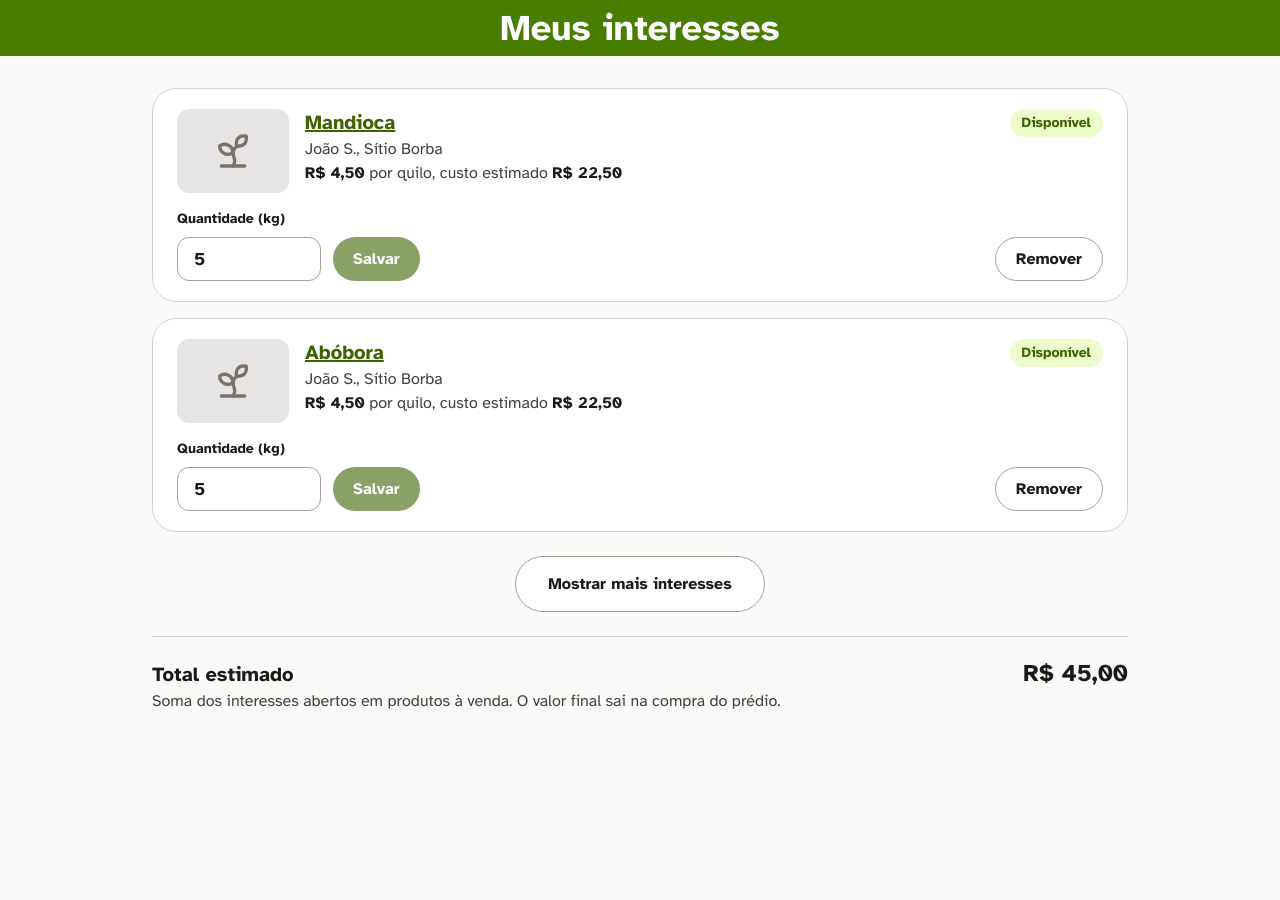
Test: MyInterests, catch-up page that fails › keeps counting the removed row for the next Mostrar mais
Click the 1st button "Remover" at coordinates (1049, 259), box x1=995 y1=237 x2=1103 y2=281
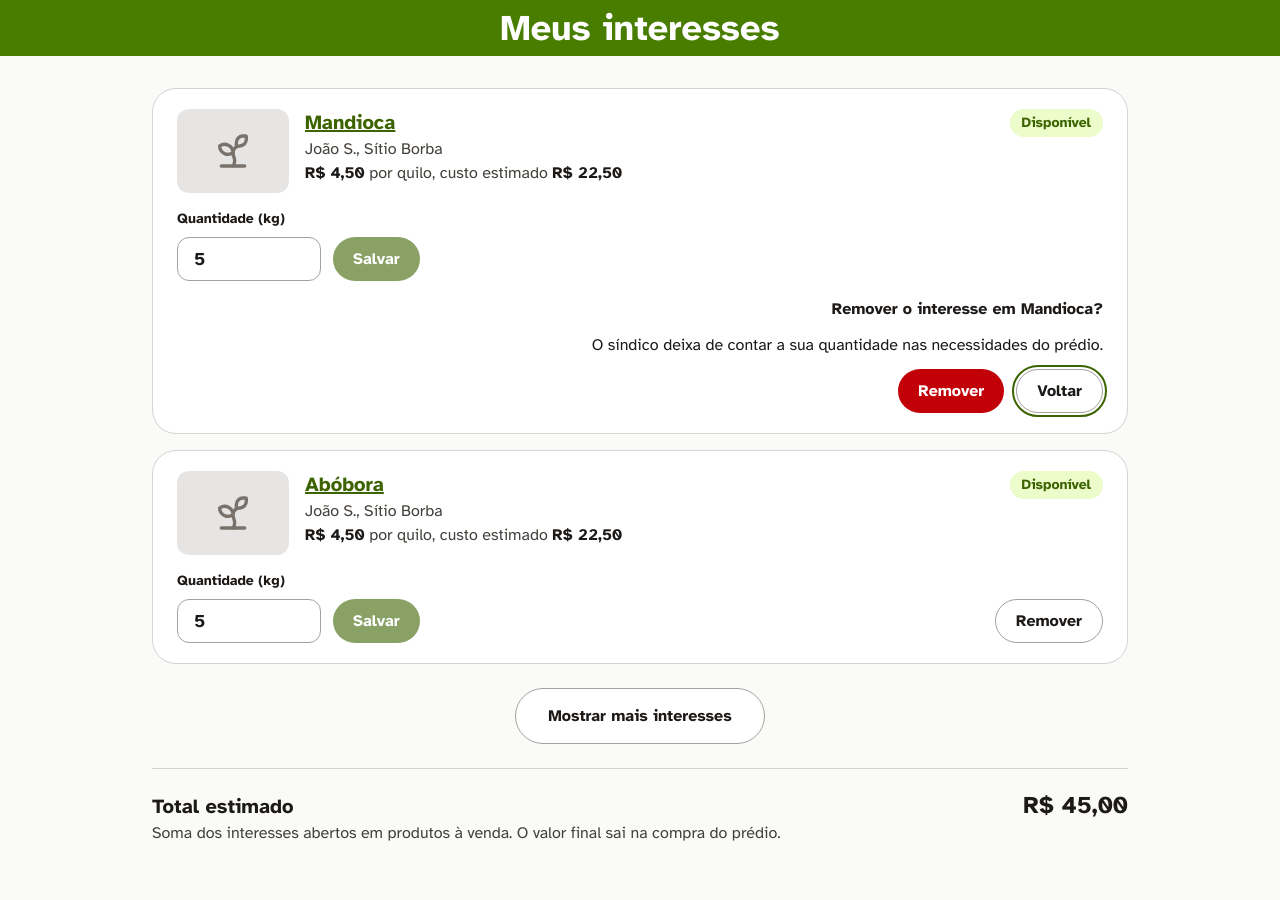
Click the button "Remover" below "Remover o interesse em" at coordinates (951, 391), box x1=898 y1=369 x2=1004 y2=413
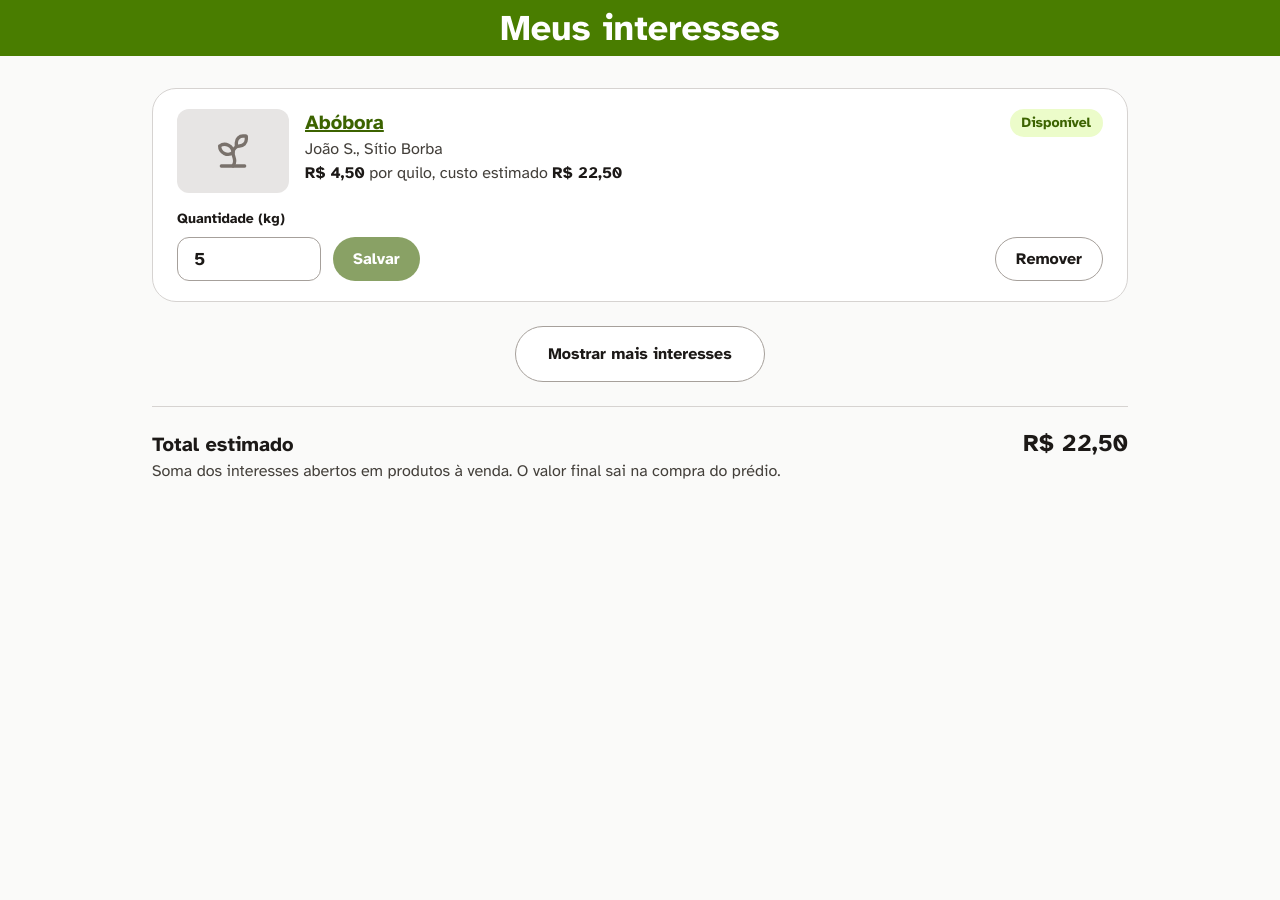
Expected: the link "Mandioca" is gone
Click the button "Mostrar mais interesses" at coordinates (640, 354), box x1=515 y1=326 x2=765 y2=382
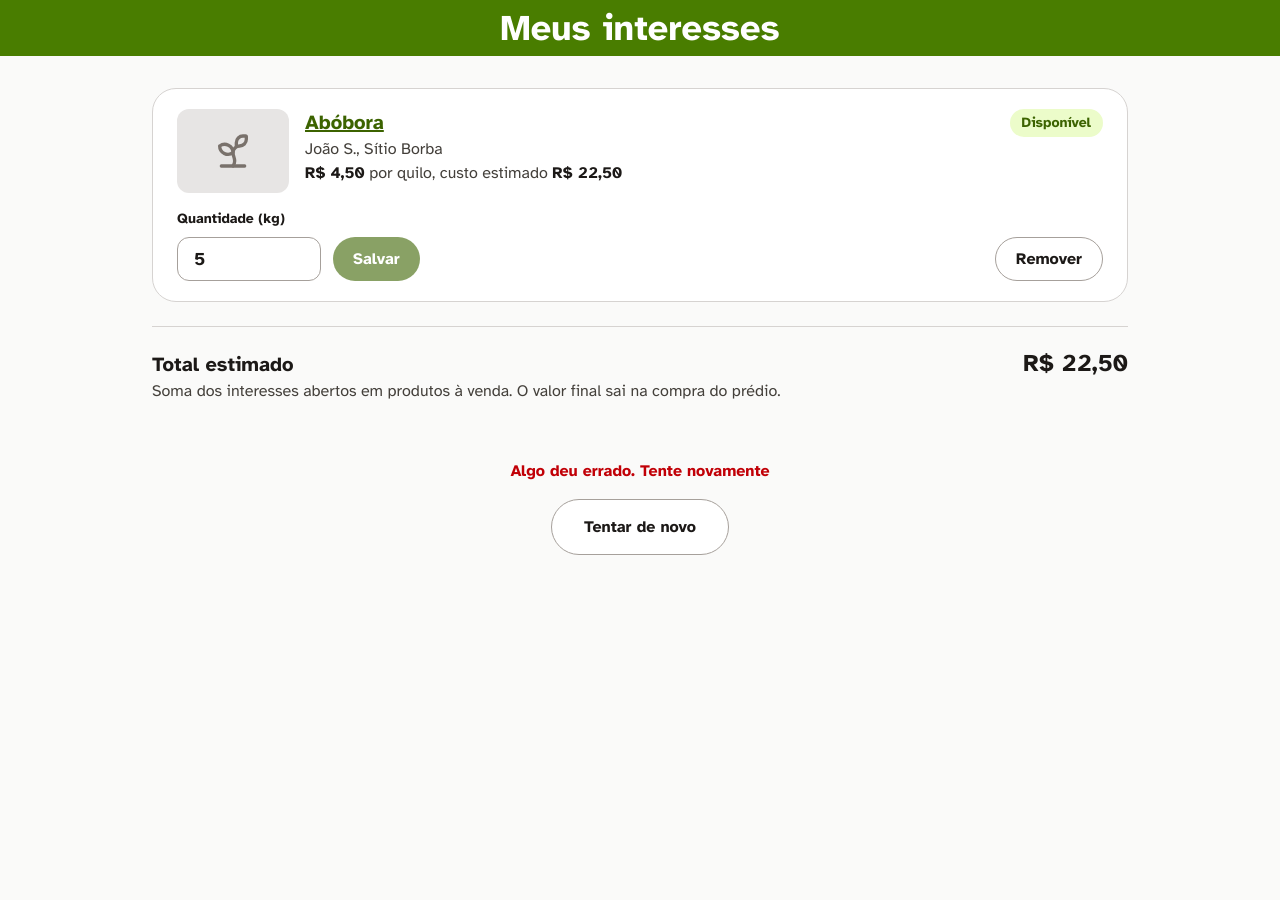
Expected: the button "Tentar de novo" is shown, x1=551 y1=499 x2=729 y2=555
Replace the text in the field labelled "Quantidade (kg)" with "7" at coordinates (249, 259), box x1=177 y1=237 x2=321 y2=281
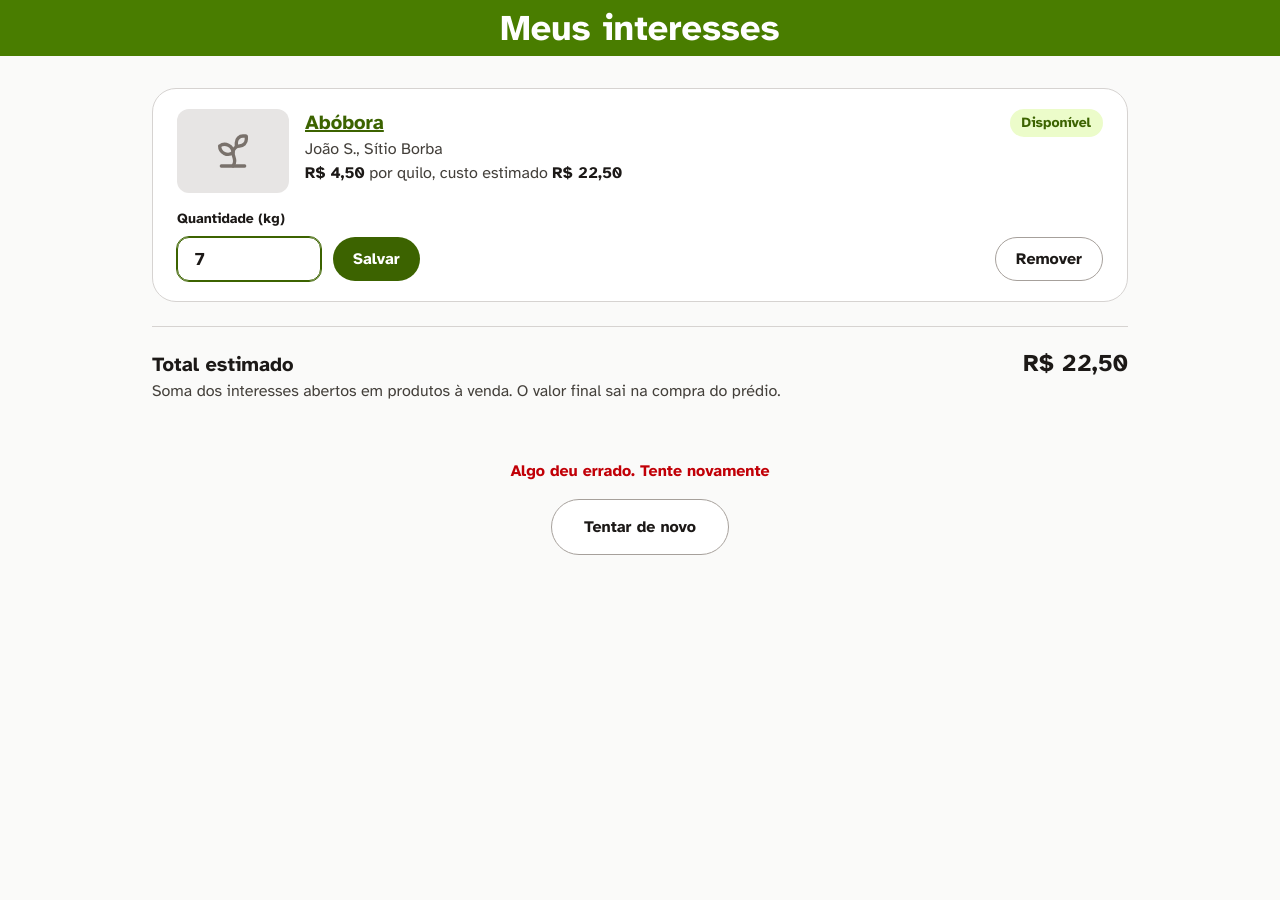
Click the button "Salvar" at coordinates (376, 259), box x1=333 y1=237 x2=420 y2=281
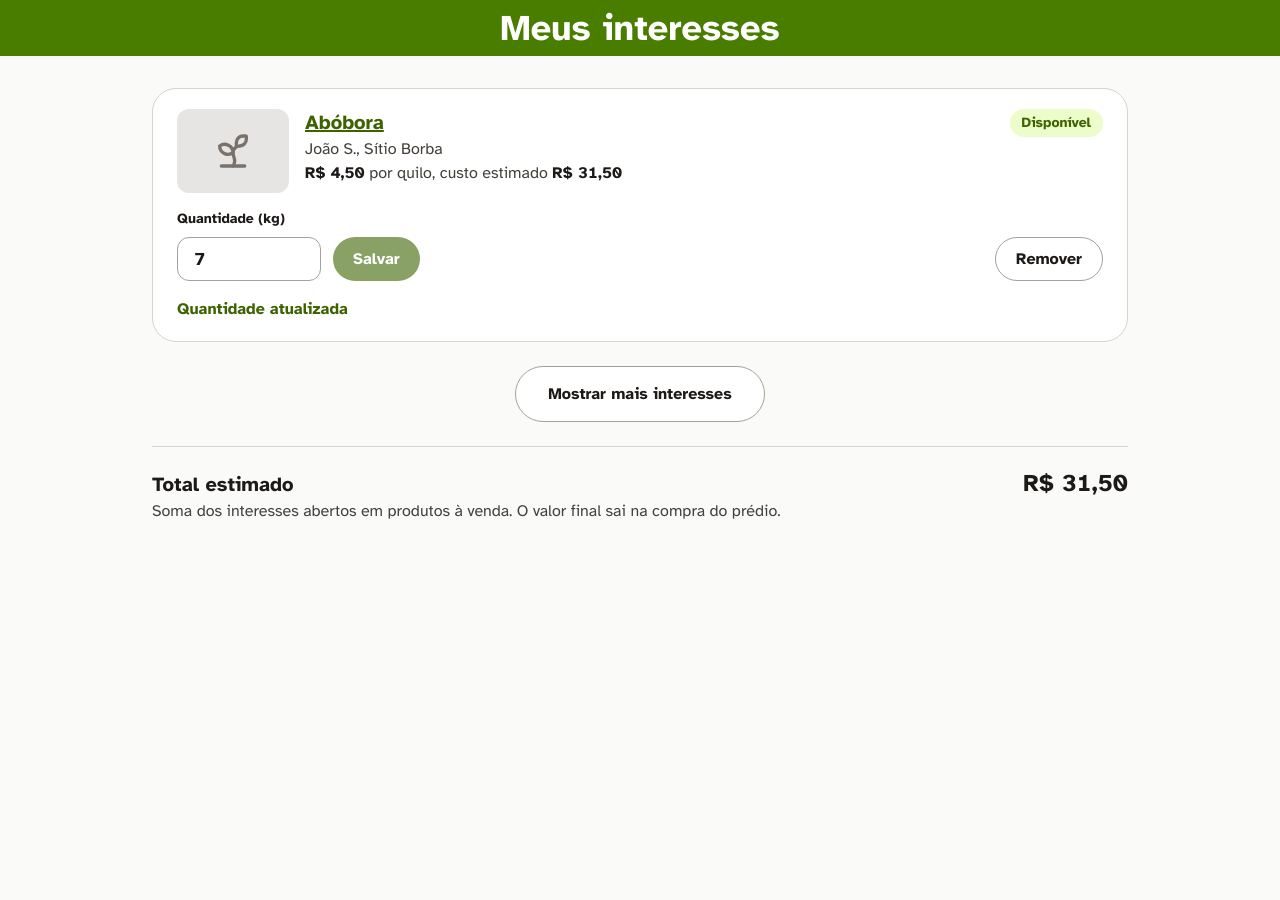
Expected: the text "Quantidade atualizada" is shown, x1=177 y1=299 x2=348 y2=319
Click the button "Mostrar mais interesses" at coordinates (640, 394), box x1=515 y1=366 x2=765 y2=422
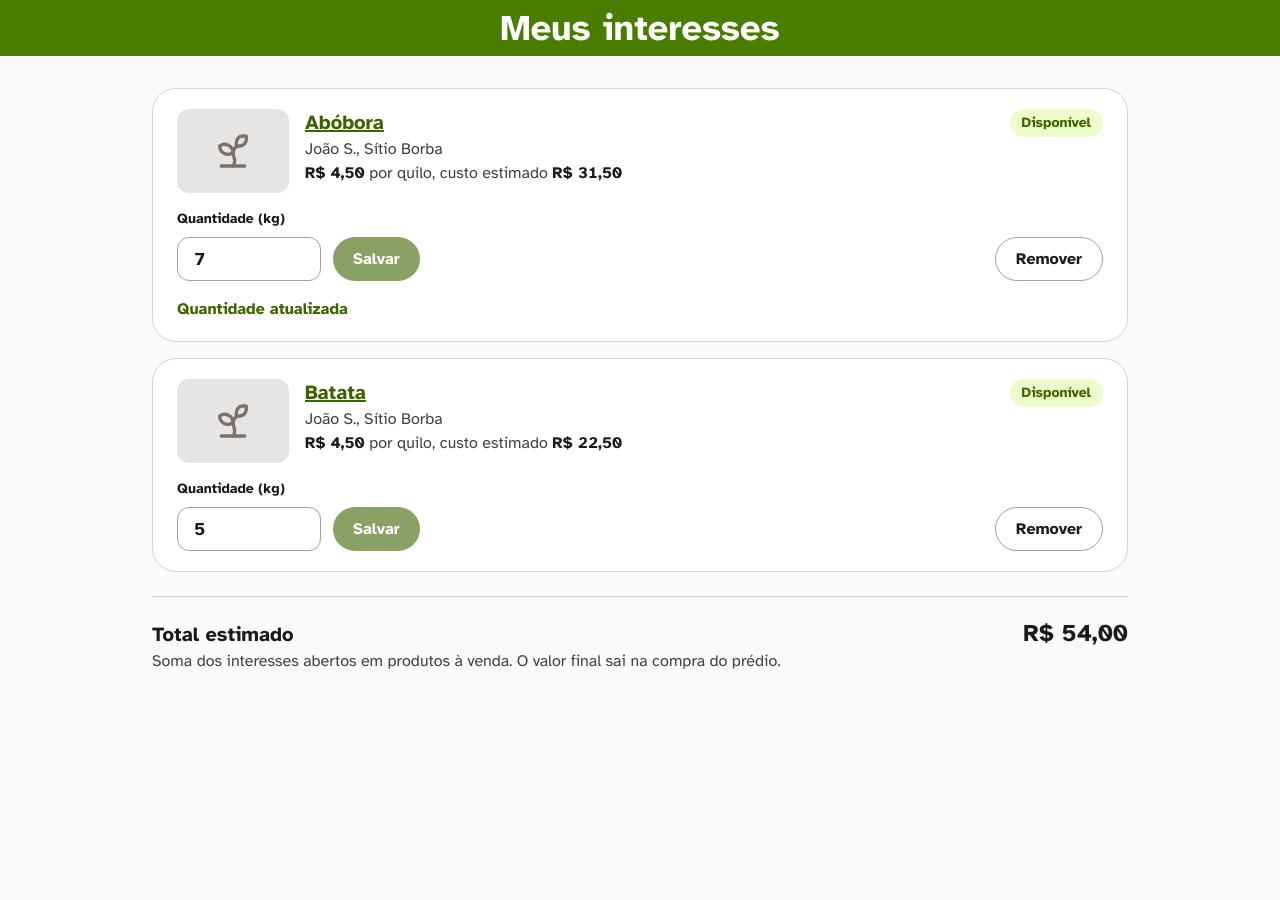
Expected: the list item "Batata" is shown, x1=152 y1=358 x2=1128 y2=572
